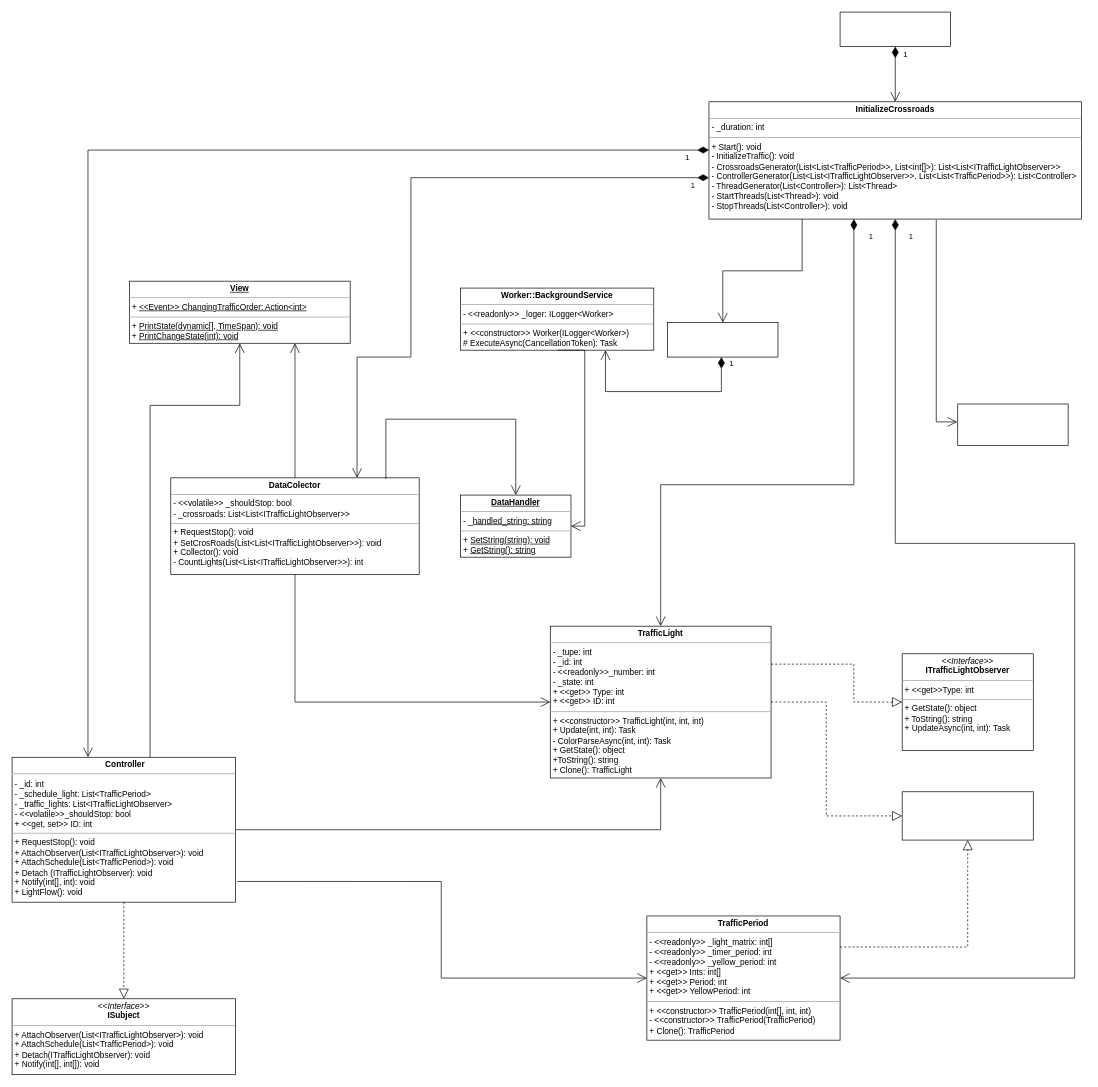
This 1098x1087 diagram has some shape labels left out. The shapes that lost their labels are listed below. From the top down, each one's centre as x and y in pixels, then its label:
(x=894, y=29): Program + Main(string[]): void
(x=722, y=339): ServerService + StartServer(): void
(x=1012, y=424): Validator + ValidateRecord(int): bool
(x=967, y=815): <<Interface>> IClonable<T> + Clone(): T
